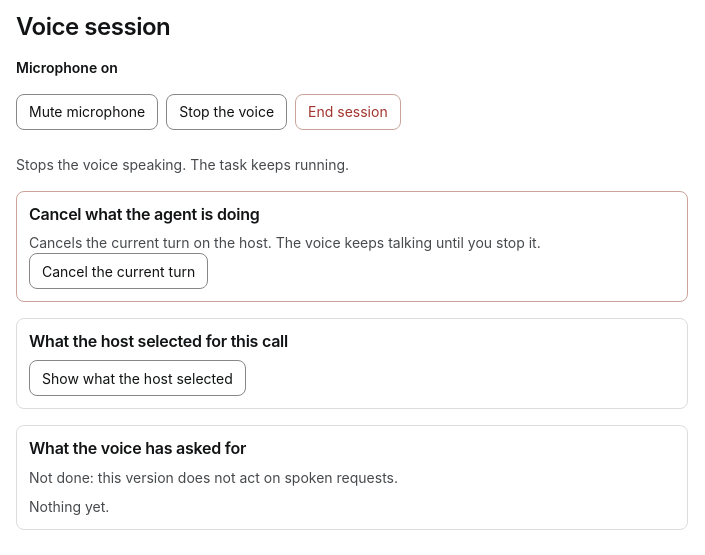
Test case: while a call is running › voids an open confirmation when the host moves to another turn
Click the button "Cancel the current turn": click(119, 271) [29,253,208,289]
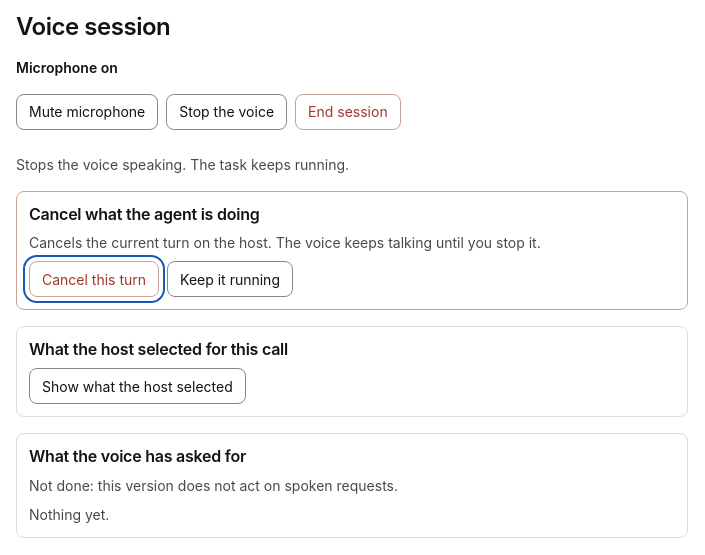
Result: the button "Cancel this turn" is shown at [29,261,159,297]
